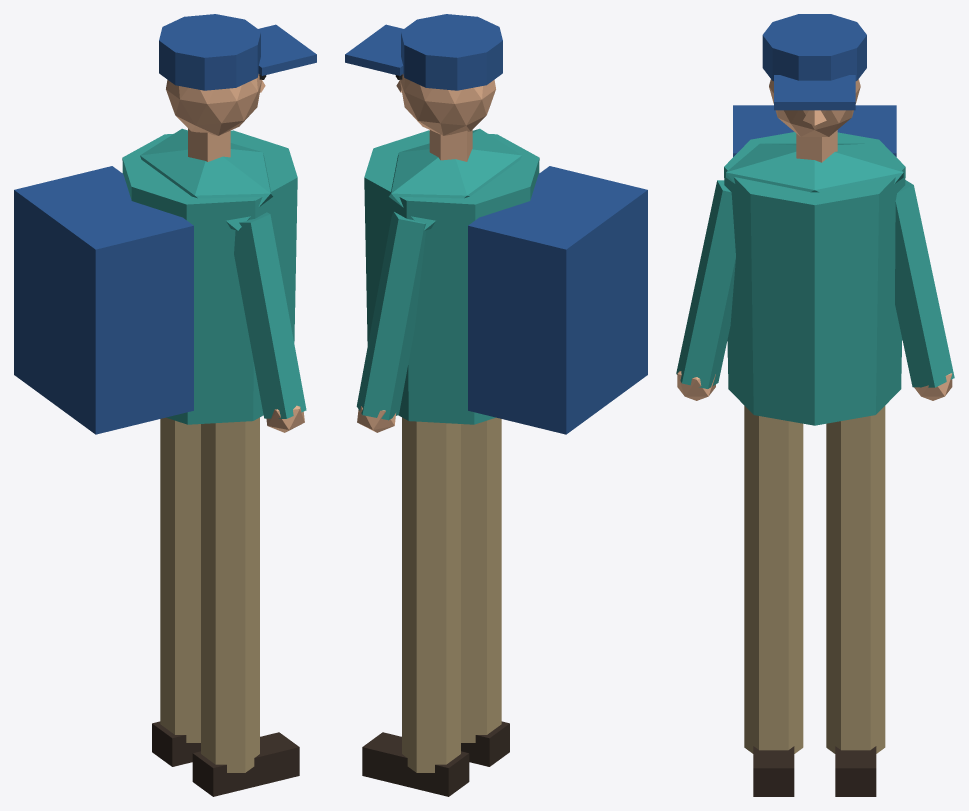
File: turist_2.glb
3 views of the same model, side by side, from view 1: azimuth 30°, elevation 25°; view 2: azimuth 150°, elevation 25°; view 3: azimuth 270°, elevation 25° (orthographic).
Visible parts, largest first — view 1: turist_2; view 2: turist_2; view 3: turist_2.
Part boxes in pixels (box(x1,y1,x2,y2)): turist_2: box(14, 14, 316, 796); turist_2: box(345, 14, 647, 796); turist_2: box(676, 14, 954, 796).
Bounding box in the file's own units: 0.615 × 1.78 × 0.6128.
